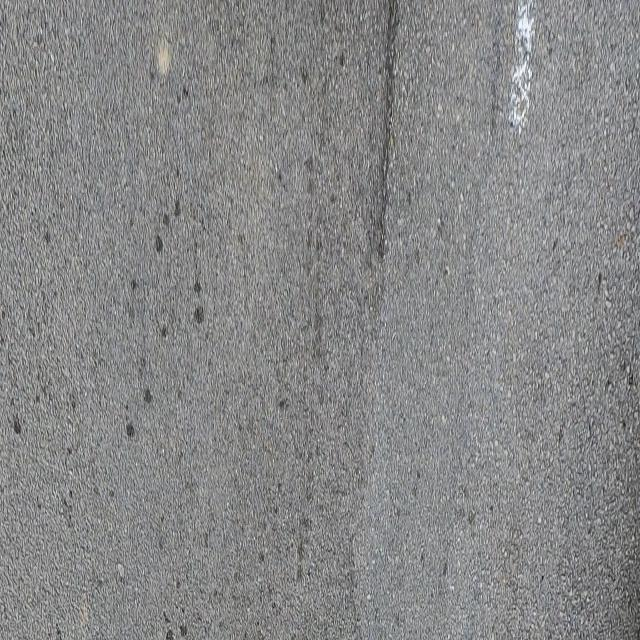Retak-Memanjang: (375, 0, 402, 263)
